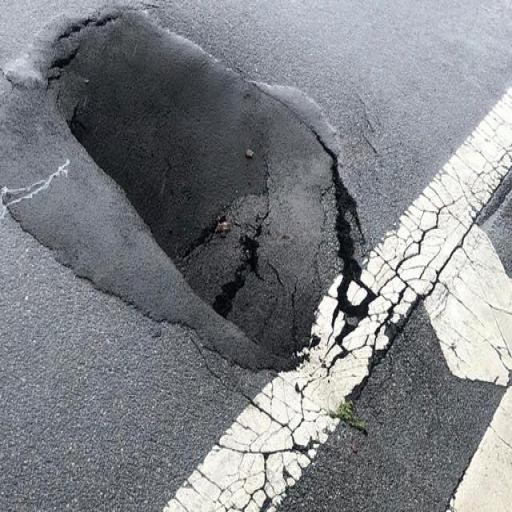Concentric_Crack: (50, 13, 362, 359)
